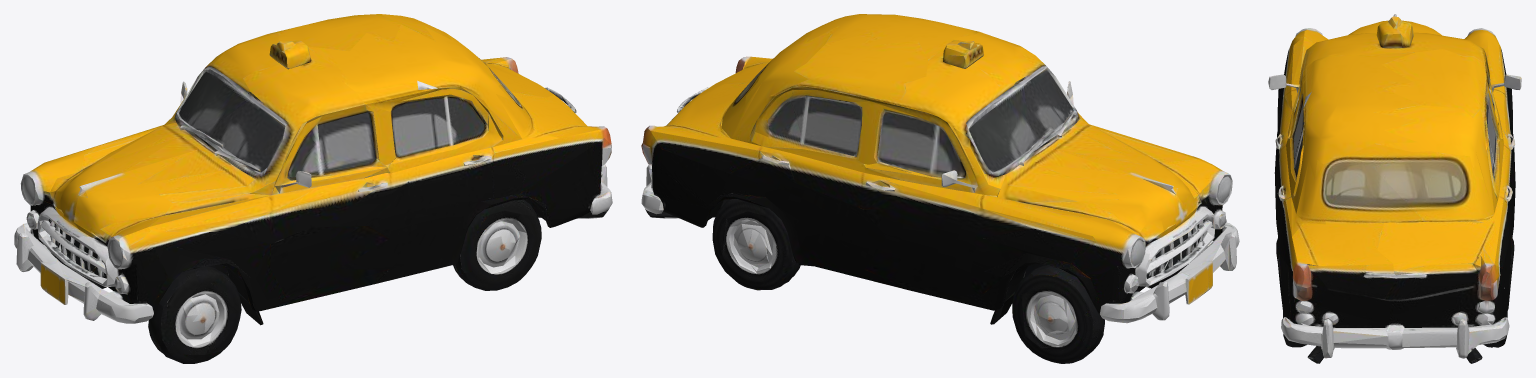
The model's file is taxi.glb.
3 renders of one model, left to right at view 1: azimuth 30°, elevation 25°; view 2: azimuth 150°, elevation 25°; view 3: azimuth 270°, elevation 25°, orthographic.
Parts seen in each view (by area): view 1: output_unwrapped; view 2: output_unwrapped; view 3: output_unwrapped.
Boxes of the visible parts, x1,y1,x2,y2 form: output_unwrapped: (14, 14, 612, 363); output_unwrapped: (641, 14, 1239, 363); output_unwrapped: (1268, 14, 1521, 363).
Bounding box in the file's own units: 1.9 × 0.8685 × 0.8087.
Materials: 1 (1 with a texture image).
